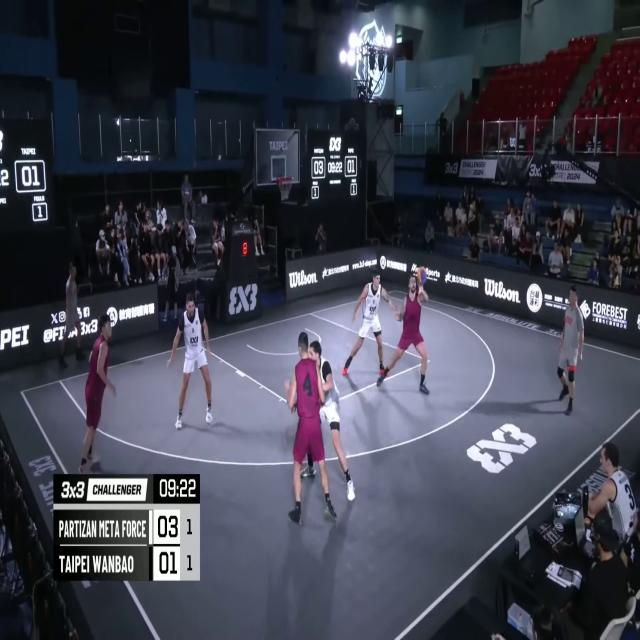ball: (414, 263, 429, 288)
hoop: (275, 172, 295, 205)
player: (308, 339, 354, 500), (379, 266, 431, 400), (168, 295, 215, 432), (80, 314, 116, 474), (347, 271, 392, 384), (292, 341, 317, 481)
